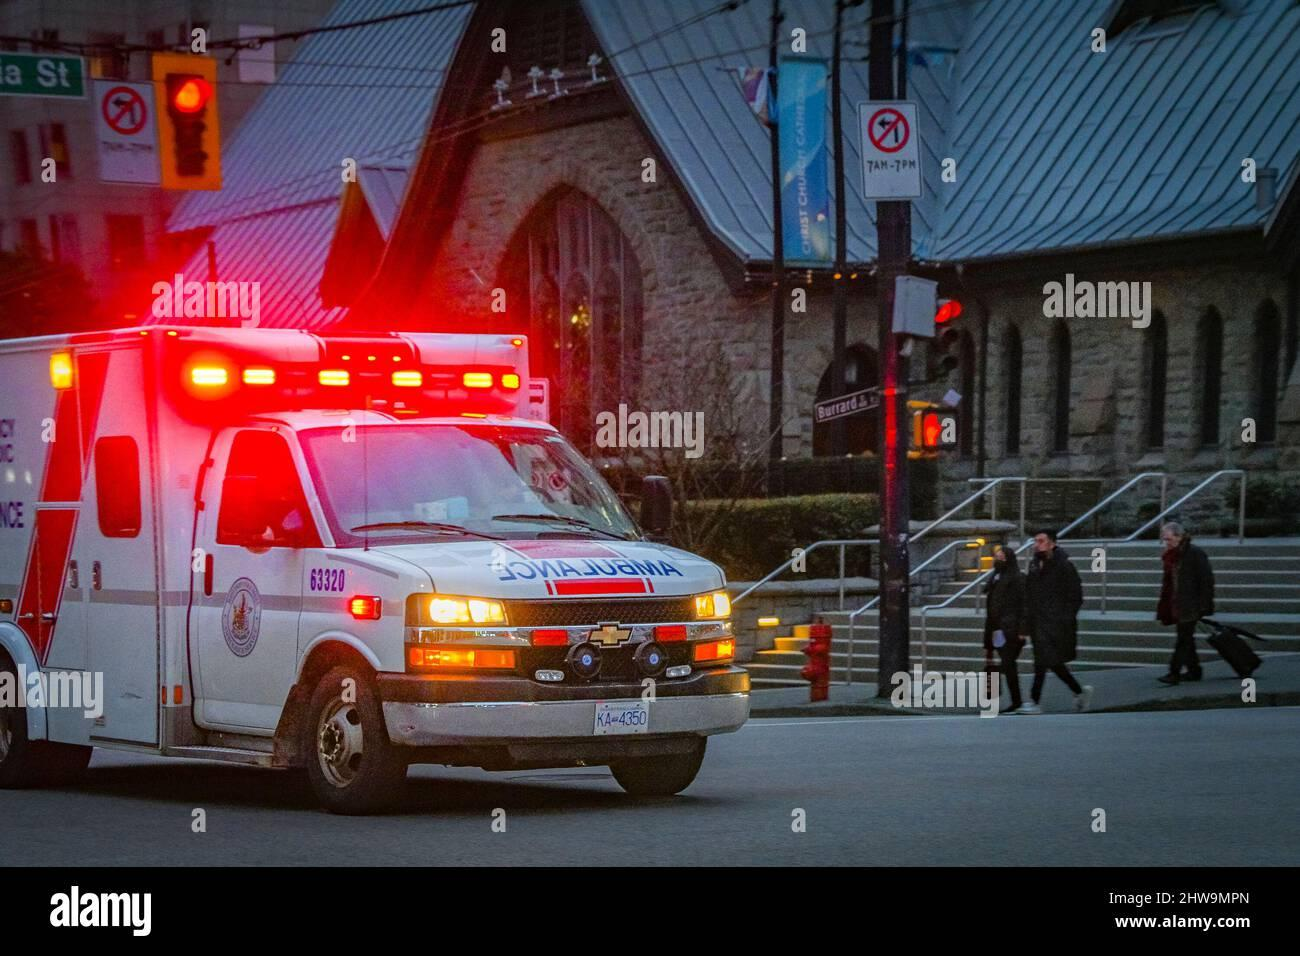ambulance_on: (0, 323, 758, 805)
